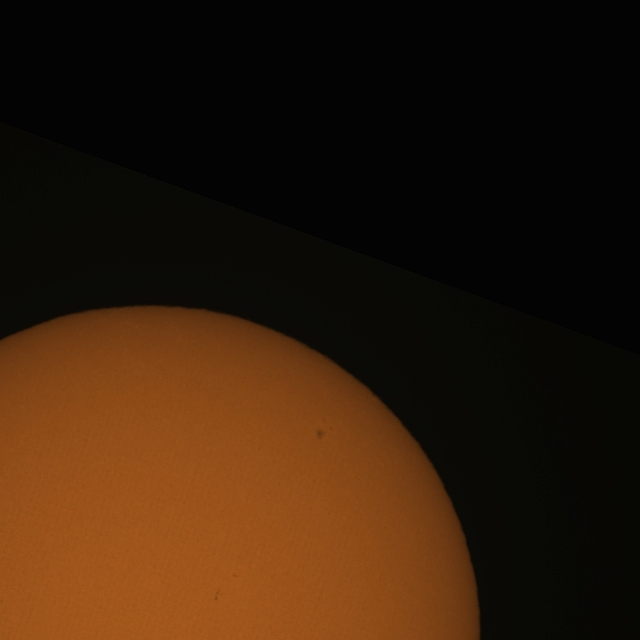sunspot: (315, 421, 333, 440), (214, 587, 222, 601)
